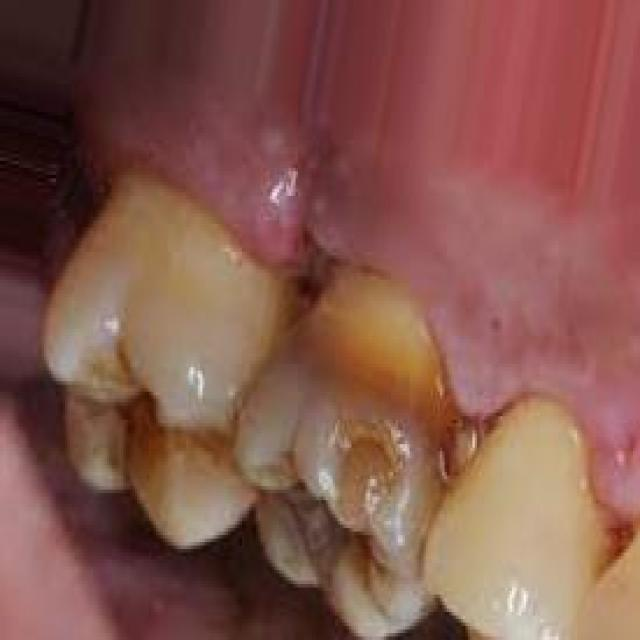caries: (270, 430, 412, 613)
